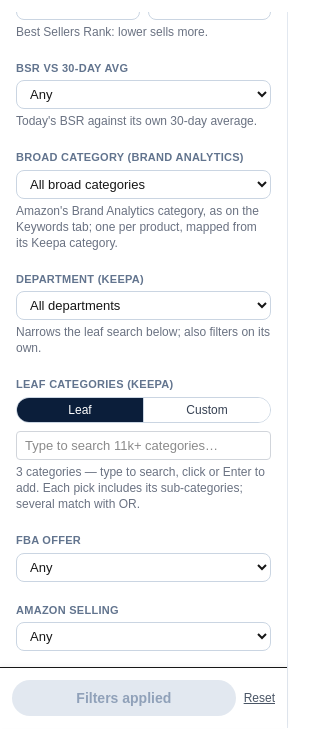
it: ProductFilterPanel categories (spec 2026-10-12 §5.1) › says where to build one when the account has no custom categories
(page scrolled)
Click the button "Custom" at (206, 410), box [143,398,270,422]
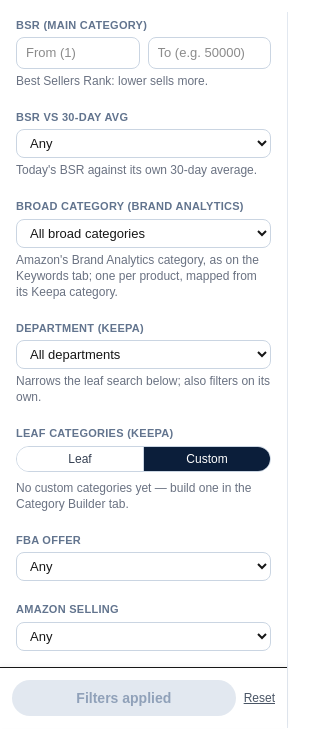
Expected: the text "No custom categories yet — build one in the Category Builder tab" is shown, [16,480,252,510]
